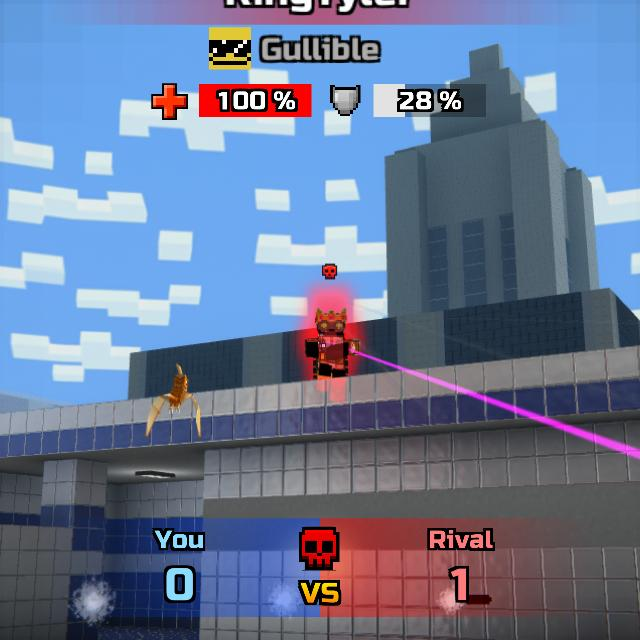Enemy: (304, 308, 360, 380)
